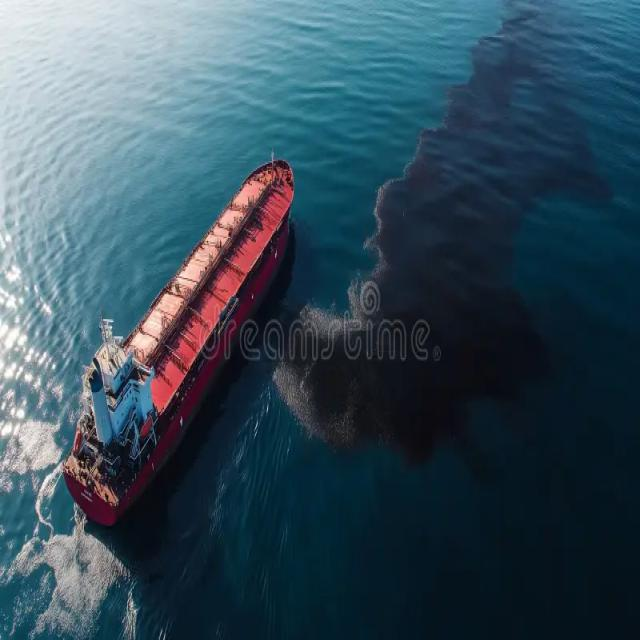oil spill: (265, 5, 611, 460)
